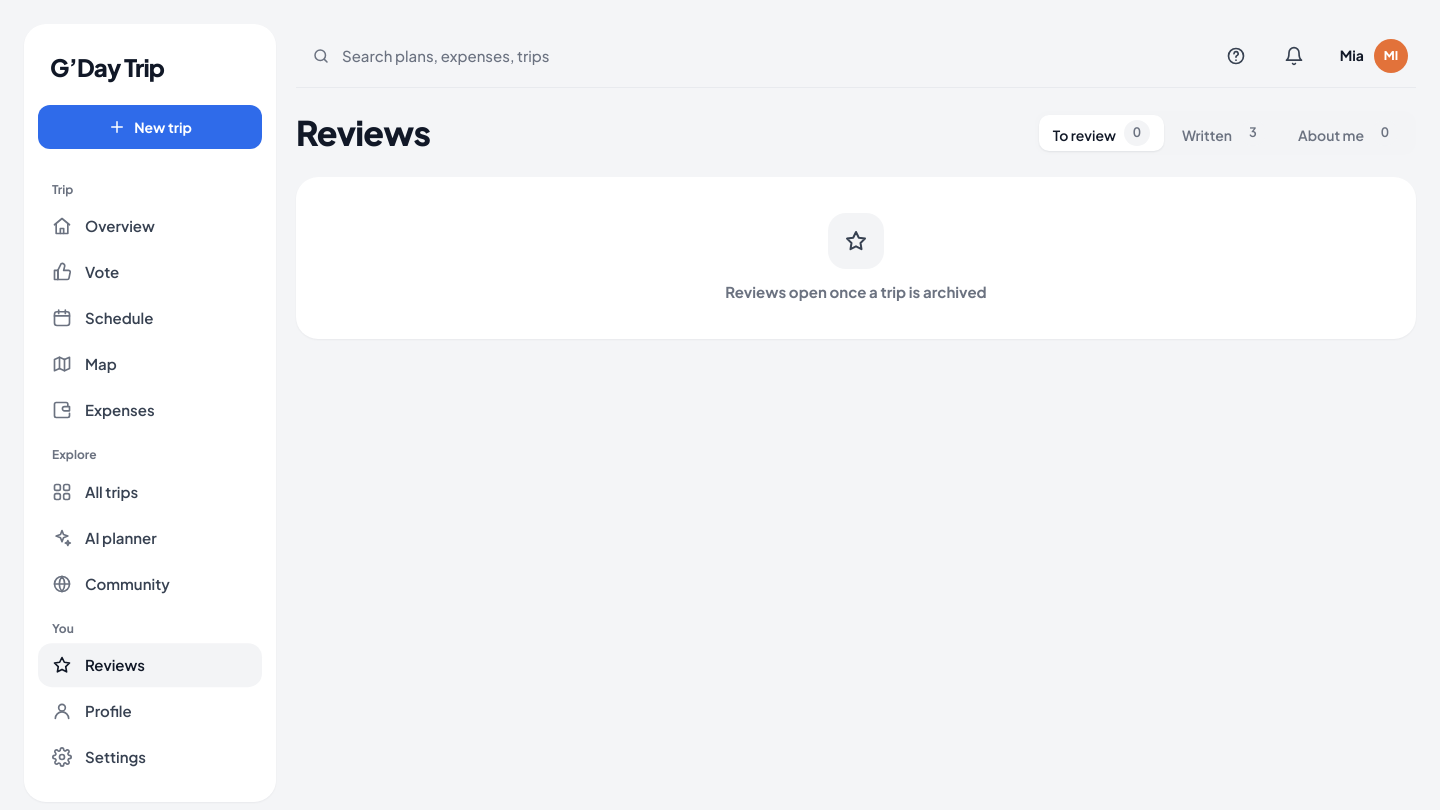
Test case: Reviews › Written groups my reviews by trip, and faces open profiles
The image size is (1440, 810).
Check: the navigation bar with id "auth" is shown, box [38,643,262,687]
Click the button "Written 3".
click(1224, 133)  # box [1168,115,1280,151]
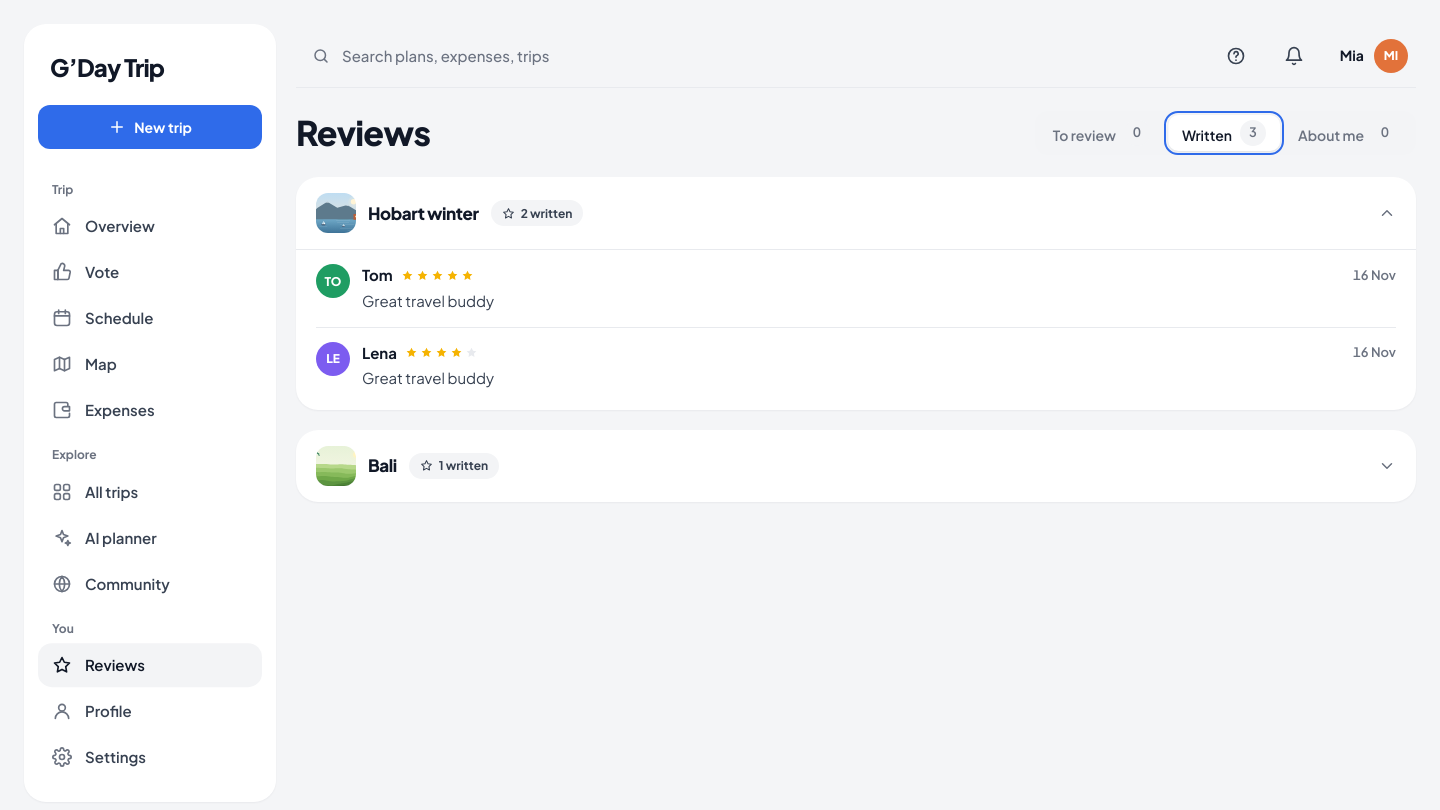
Click the button "LE".
click(333, 358)  # box [316,342,350,376]
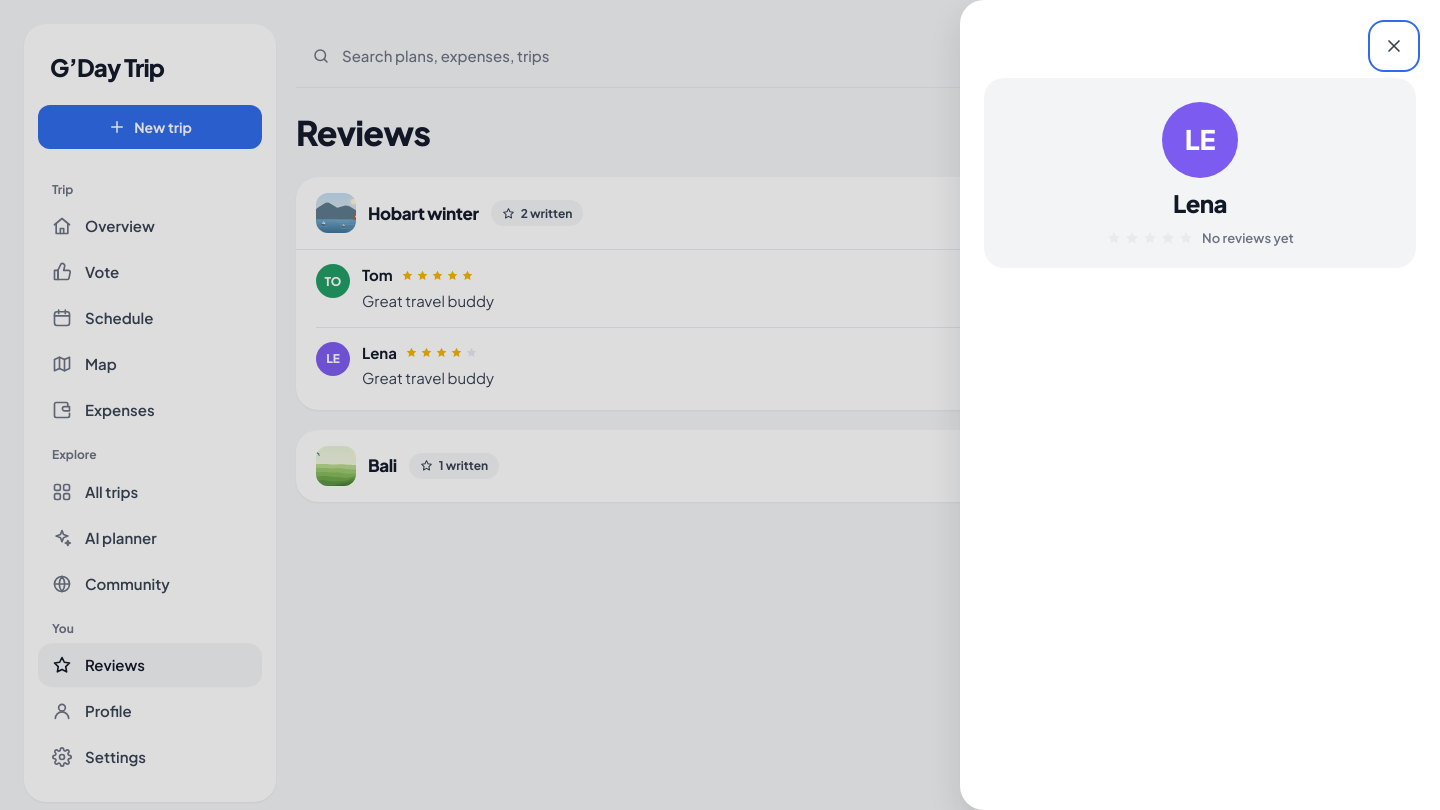
Check: the heading "Lena" is shown, box [1173,186,1227,221]
